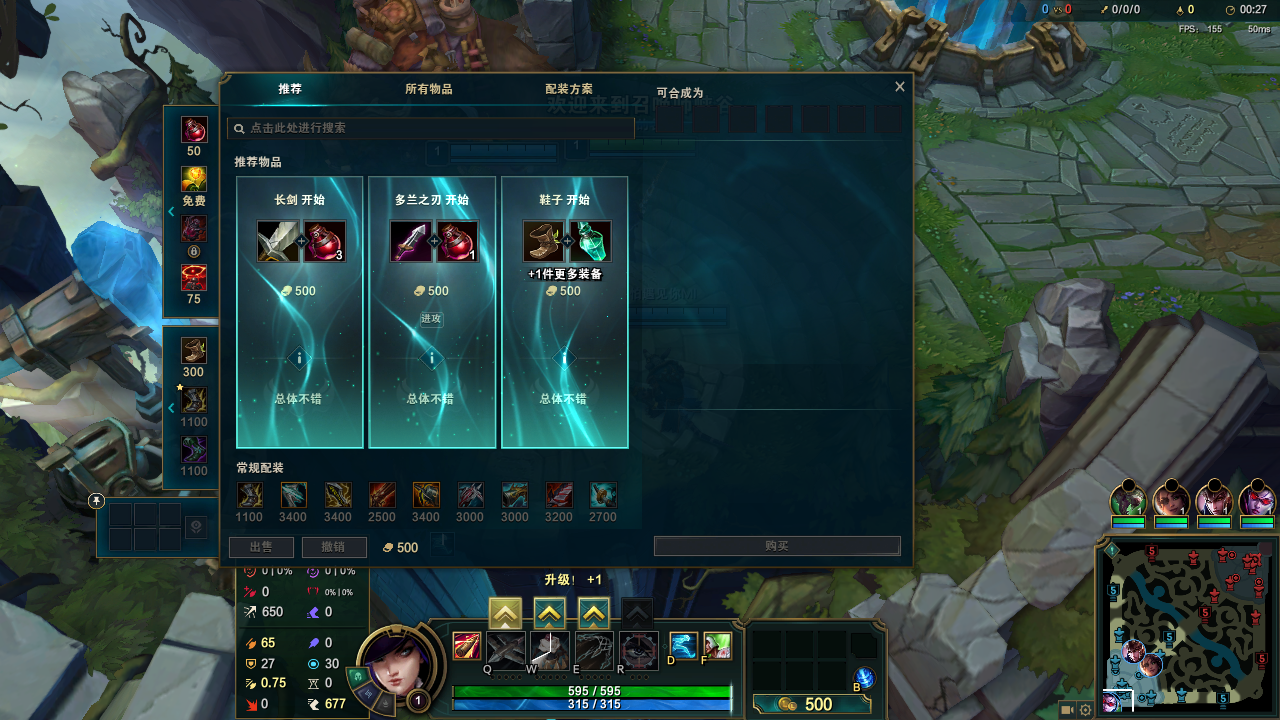Shenji: (579, 604, 601, 626), (534, 607, 562, 622)
TJJM: (259, 74, 323, 110)
Tuijianshengji: (490, 601, 521, 629)
Yita: (1218, 695, 1228, 708)
